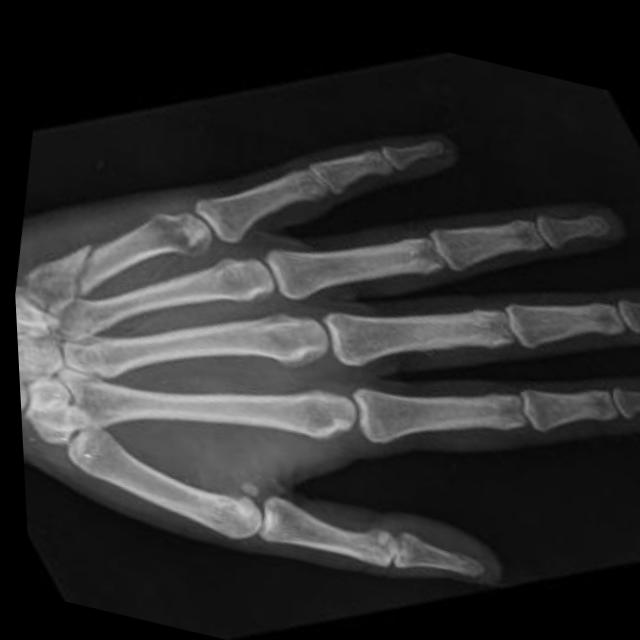fracture: (61, 229, 102, 292)
